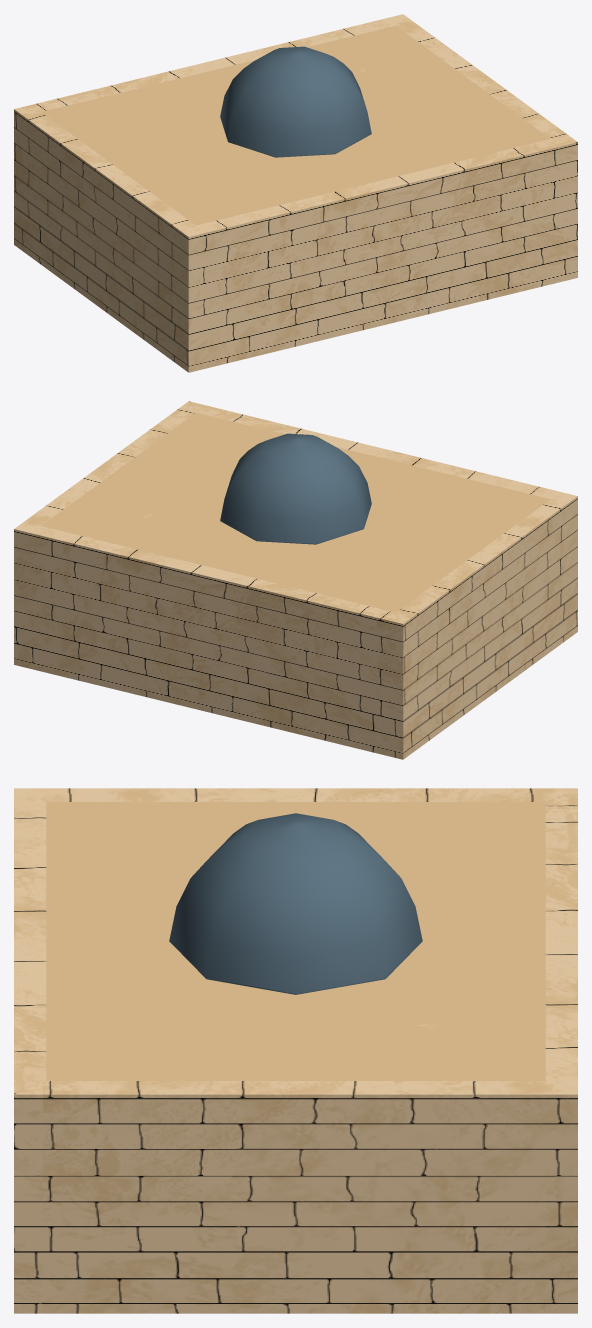
The model's file is Iglesia-mezquita.fbx.
3 renders of one model, top to bottom at view 1: azimuth 30°, elevation 25°; view 2: azimuth 150°, elevation 25°; view 3: azimuth 270°, elevation 25°, orthographic. The views are drawn at different scales.
Parts seen in each view (by area): view 1: Box001; view 2: Box001; view 3: Box001.
Boxes of the visible parts, bbox=[...] form: Box001: bbox=[14, 14, 577, 372]; Box001: bbox=[14, 401, 577, 759]; Box001: bbox=[14, 788, 577, 1313].
Bounding box in the file's own units: 3.6 × 1.85 × 2.8.
1 material, 1 textured.
